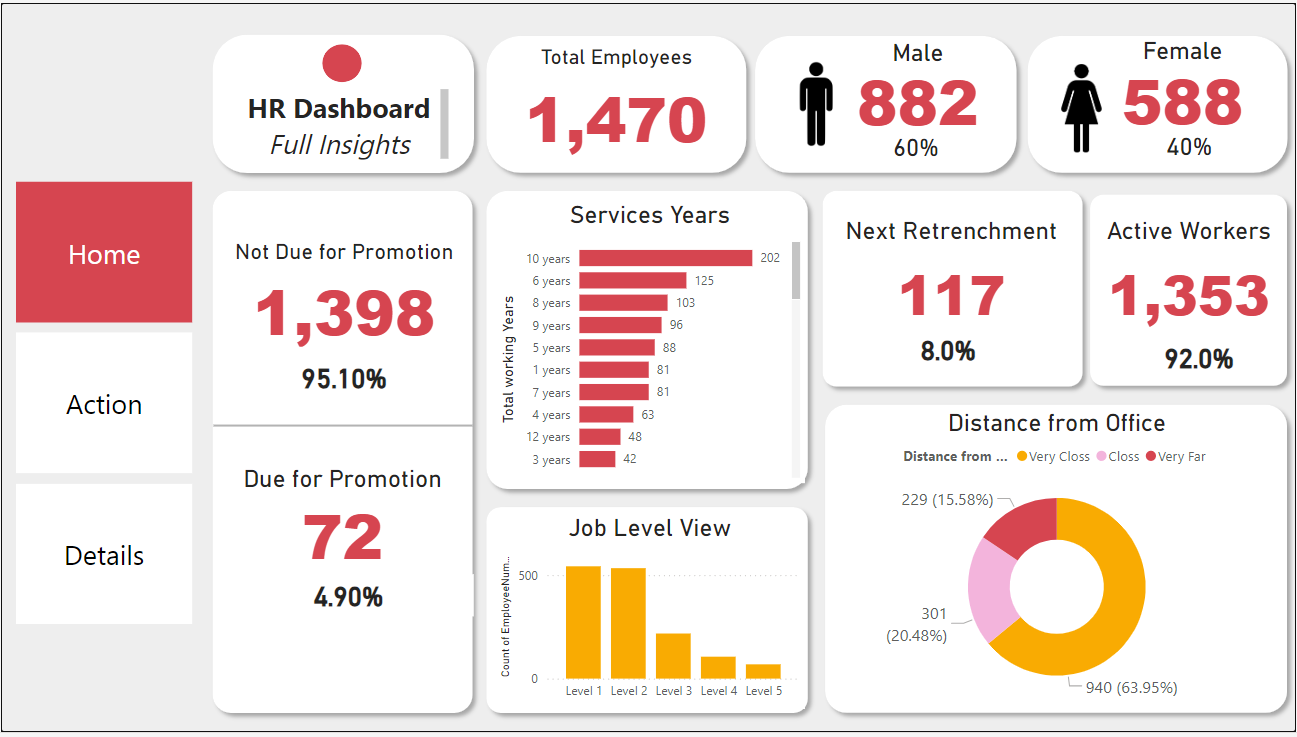

What the dashboard file says about the page in this screenshot:
{"tool":"powerbi","page":{"name":"Home","canvas":[1280,720],"ordinal":0},"visuals":[{"type":"shape","box":[199.6,21.7,276.2,154.7],"z":3000},{"type":"textbox","box":[228.4,80.7,218.5,79.4],"z":5000},{"type":"shape","box":[470,23.1,274.7,153.3],"z":6000},{"type":"card","title":"Total Employees","fields":{"Values":["All Measures.Total Emp"]},"box":[494.5,40.5,225.6,118.6],"z":7000},{"type":"shape","box":[316.7,40.5,39,37.6],"z":8000},{"type":"shape","box":[736,23.1,276.2,153.3],"z":9000},{"type":"shape","box":[1005,23.1,274.7,153.3],"z":10000},{"type":"card","title":"Male","fields":{"Values":["All Measures.Male"]},"box":[830,34.7,151.8,92.5],"z":11000},{"type":"card","fields":{"Values":["All Measures.Male %"]},"box":[866.2,122.9,73.7,36.2],"z":12000},{"type":"image","box":[1040.2,55.9,53.4,96.8],"z":13000},{"type":"card","title":"Female","fields":{"Values":["All Measures.Female"]},"box":[1093.2,33.3,148.9,94],"z":14000},{"type":"card","fields":{"Values":["All Measures.Female %"]},"box":[1129.3,121.5,88.2,40.5],"z":15000},{"type":"image","box":[769.3,33.3,72.3,133],"z":16000},{"type":"shape","box":[199.6,176.4,274.7,533.6],"z":17000},{"type":"shape","box":[209.7,400.5,255.9,34.7],"z":18000},{"type":"card","title":"Not Due for Promotion","fields":{"Values":["All Measures.Not Due"]},"box":[219.8,232.8,238.6,114.2],"z":19000},{"type":"card","fields":{"Values":["All Measures.% Not due for promotion"]},"box":[271.9,339.8,134.5,60.7],"z":20000},{"type":"card","title":"Due for Promotion","fields":{"Values":["All Measures.Due for promotion"]},"box":[212.6,455.5,250.2,108.5],"z":21000},{"type":"card","fields":{"Values":["All Measures.% Due for promotion"]},"box":[219.8,563.9,247.3,41.9],"z":22000},{"type":"shape","box":[470,176.4,335.5,312.3],"z":23000},{"type":"clusteredBarChart","title":"Services Years","fields":{"Category":["HR Analytics Data.Total working Years"],"Y":["CountNonNull(HR Analytics Data.EmployeeNumber)"]},"box":[487.3,195.2,306.6,279.1],"z":24000},{"type":"shape","box":[470,488.8,335.5,221.2],"z":25000},{"type":"columnChart","title":"Job Level View","fields":{"Category":["HR Analytics Data.Job Level"],"Y":["CountNonNull(HR Analytics Data.EmployeeNumber)"]},"box":[487.3,503.2,306.6,193.8],"z":26000},{"type":"shape","box":[802.5,176.4,274.7,211.1],"z":27000},{"type":"shape","box":[1067.2,180.8,212.6,206.8],"z":28000},{"type":"card","title":"Next Retrenchment","fields":{"Values":["All Measures.Due for retrenchment"]},"box":[814.1,211.1,250.2,121.5],"z":29000},{"type":"card","fields":{"Values":["All Measures.% Due for retirment"]},"box":[890.7,309.4,91.1,65.1],"z":30000},{"type":"card","title":"Active Workers","fields":{"Values":["All Measures.Active workers"]},"box":[1077.3,211.1,190.9,121.5],"z":31000},{"type":"card","fields":{"Values":["All Measures.% Active workers"]},"box":[1125,325.4,117.1,49.2],"z":32000},{"type":"shape","box":[805.4,387.5,474.3,322.5],"z":33000},{"type":"donutChart","title":"Distance from Office","fields":{"Category":["HR Analytics Data.Distance from office"],"Y":["CountNonNull(HR Analytics Data.EmployeeNumber)"]},"box":[830,400.5,426.6,296.4],"z":34000},{"type":"pageNavigator","box":[14.7,176.1,174.9,439],"z":36001}]}

Visuals, with their boxes in screenshot pixels (x1, y1, x2, y2), scaled from the page's 1280x720 canvas onto the 1297x737 screenshot:
shape: (x1=202, y1=22, x2=482, y2=181)
textbox: (x1=231, y1=83, x2=453, y2=164)
shape: (x1=476, y1=24, x2=755, y2=181)
"Total Employees" card: (x1=501, y1=41, x2=730, y2=163)
shape: (x1=321, y1=41, x2=360, y2=80)
shape: (x1=746, y1=24, x2=1026, y2=181)
shape: (x1=1018, y1=24, x2=1296, y2=181)
"Male" card: (x1=841, y1=36, x2=995, y2=130)
card - All Measures.Male %: (x1=878, y1=126, x2=952, y2=163)
image: (x1=1054, y1=57, x2=1108, y2=156)
"Female" card: (x1=1108, y1=34, x2=1259, y2=130)
card - All Measures.Female %: (x1=1144, y1=124, x2=1234, y2=166)
image: (x1=780, y1=34, x2=853, y2=170)
shape: (x1=202, y1=181, x2=481, y2=727)
shape: (x1=212, y1=410, x2=472, y2=445)
"Not Due for Promotion" card: (x1=223, y1=238, x2=464, y2=355)
card - All Measures.% Not due for promotion: (x1=276, y1=348, x2=412, y2=410)
"Due for Promotion" card: (x1=215, y1=466, x2=469, y2=577)
card - All Measures.% Due for promotion: (x1=223, y1=577, x2=473, y2=620)
shape: (x1=476, y1=181, x2=816, y2=500)
"Services Years" clusteredBarChart: (x1=494, y1=200, x2=804, y2=485)
shape: (x1=476, y1=500, x2=816, y2=727)
"Job Level View" columnChart: (x1=494, y1=515, x2=804, y2=713)
shape: (x1=813, y1=181, x2=1092, y2=397)
shape: (x1=1081, y1=185, x2=1296, y2=397)
"Next Retrenchment" card: (x1=825, y1=216, x2=1078, y2=340)
card - All Measures.% Due for retirment: (x1=903, y1=317, x2=995, y2=383)
"Active Workers" card: (x1=1092, y1=216, x2=1285, y2=340)
card - All Measures.% Active workers: (x1=1140, y1=333, x2=1259, y2=383)
shape: (x1=816, y1=397, x2=1296, y2=727)
"Distance from Office" donutChart: (x1=841, y1=410, x2=1273, y2=713)
pageNavigator: (x1=15, y1=180, x2=192, y2=630)
